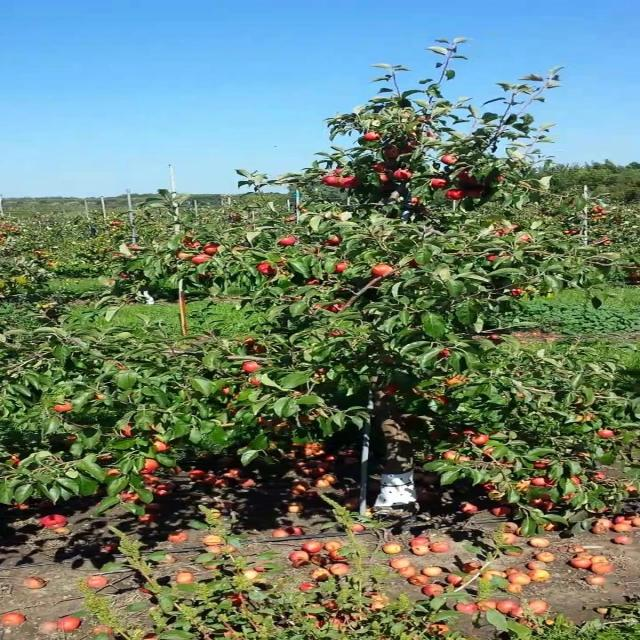apple: (255, 416, 281, 427), (141, 460, 160, 472), (383, 384, 400, 396), (248, 340, 265, 352), (447, 376, 469, 385), (383, 148, 400, 159), (376, 264, 391, 276), (326, 176, 341, 188), (532, 460, 551, 469), (319, 304, 340, 312), (532, 500, 553, 508), (262, 264, 277, 275), (205, 244, 220, 255), (461, 172, 475, 183), (298, 416, 316, 424), (625, 484, 638, 495), (447, 192, 464, 200), (340, 180, 357, 188), (248, 344, 265, 352), (184, 240, 201, 248), (532, 480, 553, 486), (248, 364, 263, 372), (433, 180, 448, 188), (198, 256, 213, 264), (397, 172, 412, 180), (476, 436, 491, 444), (156, 444, 171, 452), (56, 404, 71, 412), (99, 456, 114, 464), (433, 396, 448, 404), (184, 240, 199, 248), (468, 192, 484, 199), (483, 484, 498, 491), (589, 508, 610, 513), (369, 132, 382, 140), (376, 164, 389, 172), (177, 252, 190, 260), (596, 432, 613, 438), (518, 484, 532, 491), (127, 424, 135, 436), (483, 448, 494, 456), (447, 156, 457, 164), (13, 456, 21, 466), (404, 144, 414, 152), (433, 432, 443, 440), (284, 240, 299, 245), (326, 240, 341, 245), (468, 176, 476, 185), (447, 452, 457, 459), (383, 184, 391, 192), (596, 472, 604, 480), (412, 260, 420, 268), (106, 472, 121, 476), (333, 168, 341, 175), (340, 264, 348, 270), (497, 176, 505, 182), (383, 176, 391, 181), (511, 292, 521, 296), (255, 380, 263, 385), (440, 352, 448, 357), (70, 436, 78, 441), (120, 364, 128, 369), (525, 236, 533, 240), (312, 280, 320, 284), (468, 432, 476, 436), (412, 200, 420, 204), (333, 332, 341, 336), (454, 432, 462, 436), (100, 396, 105, 399), (570, 496, 574, 499)
